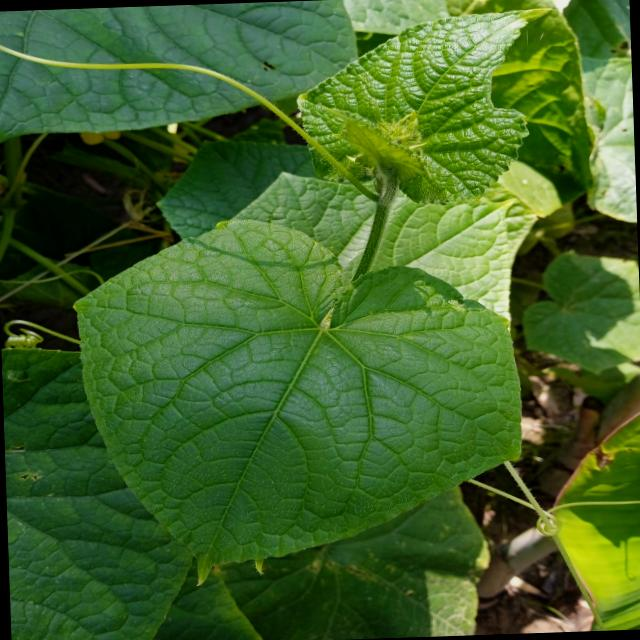cucumber_healthy: (63, 158, 544, 594), (0, 322, 195, 640), (288, 2, 572, 206), (0, 0, 379, 143), (516, 234, 640, 382)
